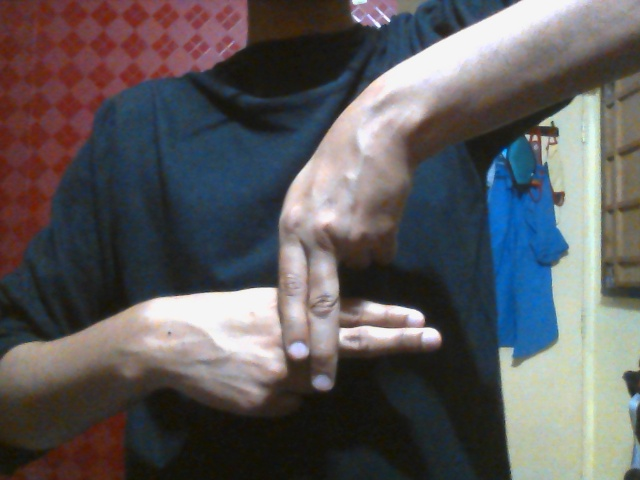F: (151, 127, 445, 422)
